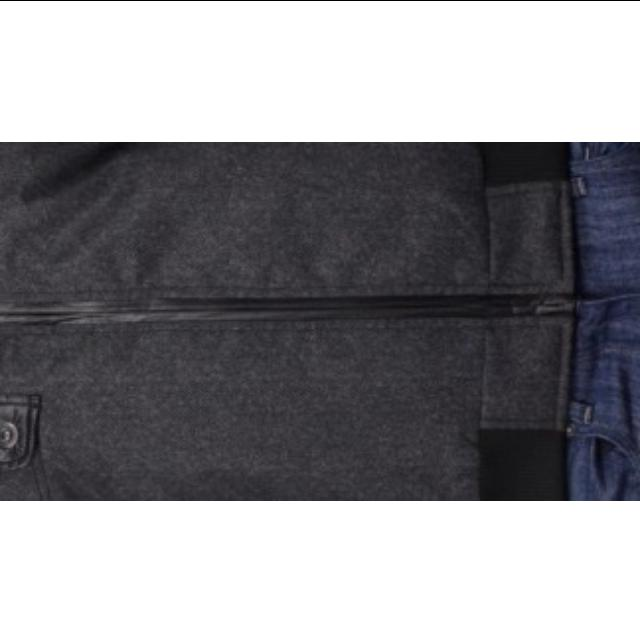polyester: (0, 140, 564, 500)
